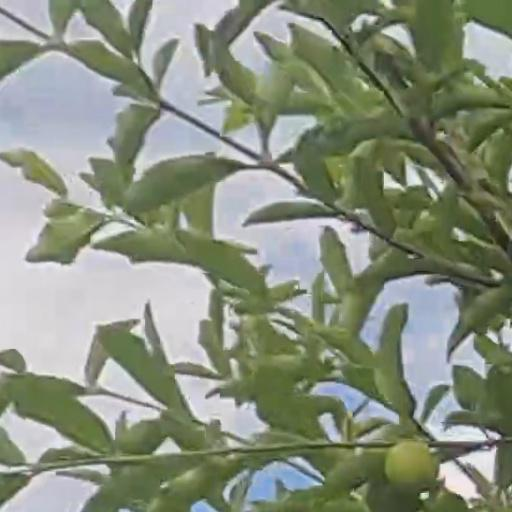acerola: (389, 443, 437, 492)
